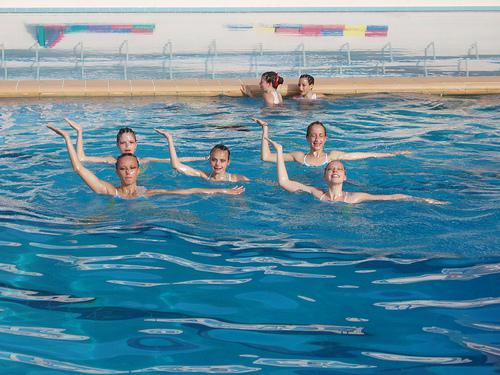human: (52, 126, 242, 204), (264, 136, 454, 208), (252, 116, 409, 172), (64, 117, 212, 162), (154, 127, 247, 183), (239, 72, 284, 105), (294, 74, 326, 100)
